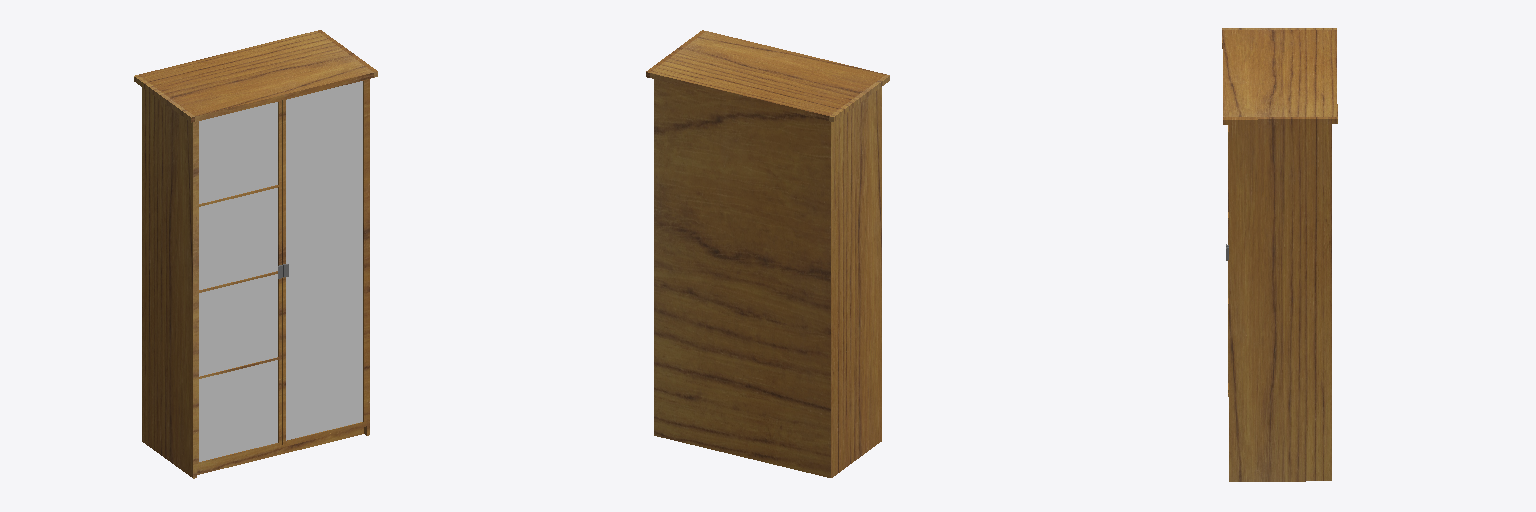
The picture shows the model from 3 angles: view 1: azimuth 30°, elevation 25°; view 2: azimuth 150°, elevation 25°; view 3: azimuth 270°, elevation 25°; orthographic projection.
Visible parts, largest first — view 1: Object02, Box02, Object03; view 2: Object02; view 3: Object02.
Part boxes in pixels (left/top/right/bottom): Object02: left=134, top=30, right=377, bottom=478; Box02: left=197, top=100, right=282, bottom=465; Object03: left=282, top=80, right=366, bottom=444; Object02: left=646, top=30, right=889, bottom=477; Object02: left=1222, top=28, right=1337, bottom=481.
Bounding box in the file's own units: 127 × 236 × 67.65.
Materials: 3 (1 with a texture image).